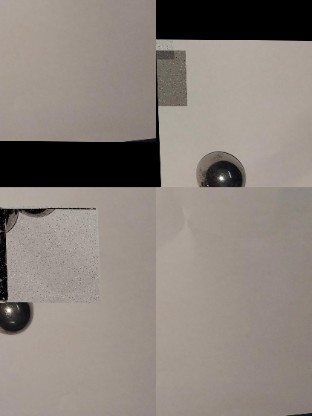ironball: (194, 150, 245, 185), (0, 303, 37, 334), (19, 204, 56, 221), (0, 205, 19, 234)
